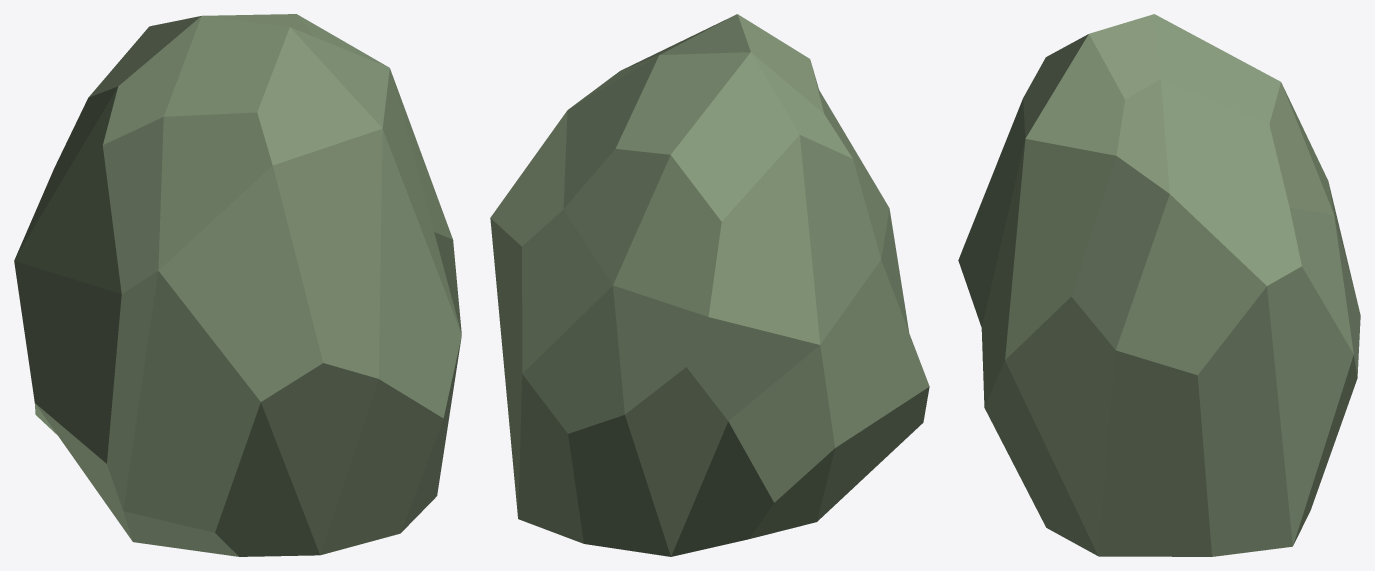
File: Bush6.fbx
The picture shows the model from 3 angles, left to right: view 1: azimuth 30°, elevation 25°; view 2: azimuth 150°, elevation 25°; view 3: azimuth 270°, elevation 25°; orthographic projection. The views are drawn at different scales.
Visible parts, largest first — view 1: Tall_bush2; view 2: Tall_bush2; view 3: Tall_bush2.
Boxes of the visible parts, left/top/right/bottom form: Tall_bush2: left=14, top=14, right=461, bottom=556; Tall_bush2: left=490, top=14, right=929, bottom=556; Tall_bush2: left=958, top=14, right=1360, bottom=556.
Size of the model in its own units: 7.3 by 8.88 by 7.1.
